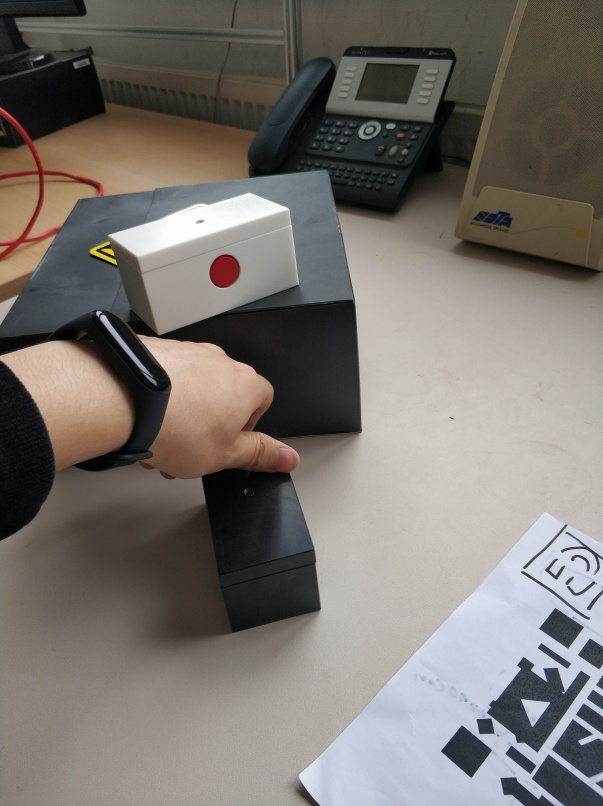white+white+red: (107, 189, 305, 340)
